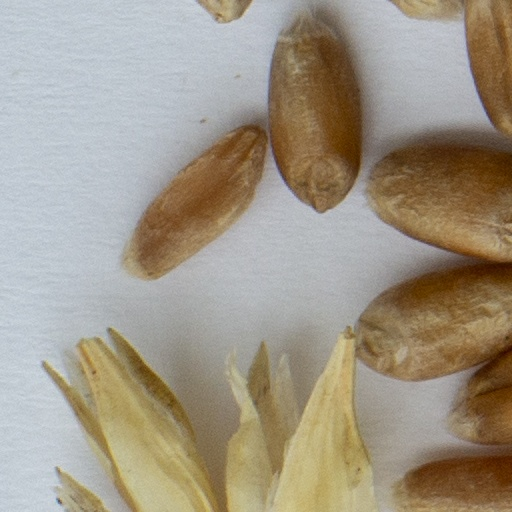Peel-poly: (35, 319, 377, 511)
